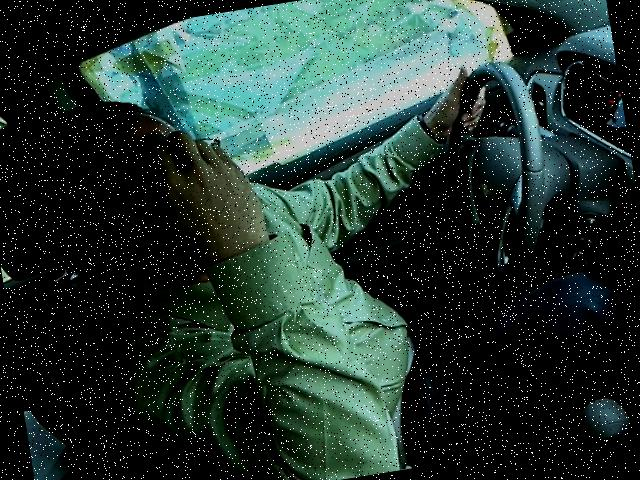c6 - Hair and Makeup: (14, 22, 589, 479)
